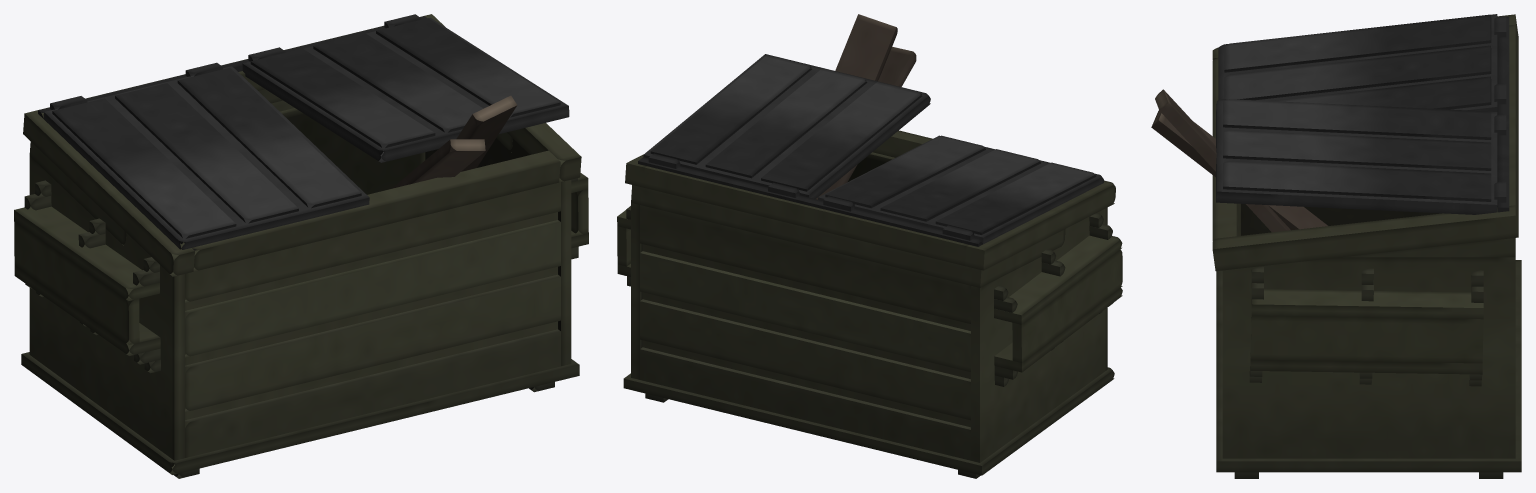
File: dumpster.obj
3 renders of one model, left to right at view 1: azimuth 30°, elevation 25°; view 2: azimuth 150°, elevation 25°; view 3: azimuth 270°, elevation 25°, orthographic. The views are drawn at different scales.
Parts seen in each view (by area): view 1: baseModel4, baseModel6, baseModel2, baseModel8, baseModel3, baseModel19, baseModel10, baseModel22, baseModel24, baseModel23, baseModel71, baseModel21 (+16 smaller); view 2: baseModel7, baseModel5, baseModel2, baseModel1, baseModel9, baseModel11, baseModel18, baseModel71, baseModel17, baseModel26, baseModel28, baseModel25 (+16 smaller); view 3: baseModel0, baseModel37, baseModel13, baseModel25, baseModel26, baseModel28, baseModel22, baseModel23, baseModel71, baseModel27, baseModel35, baseModel24 (+9 smaller).
Part boxes in pixels (x1,y1,x2,y2): baseModel4: (185,220,560,357); baseModel6: (185,274,560,412); baseModel2: (29,156,184,467); baseModel8: (185,329,560,457); baseModel3: (185,182,560,302); baseModel19: (192,150,560,271); baseModel10: (185,212,557,427); baseModel22: (52,98,236,243); baseModel24: (177,67,361,208); baseModel23: (115,83,298,223); baseModel71: (21,352,579,474); baseModel21: (43,66,369,250); baseModel7: (640,299,970,420); baseModel5: (640,251,970,371); baseModel2: (971,207,1107,462); baseModel1: (640,205,970,323); baseModel9: (640,347,970,460); baseModel11: (642,244,970,427); baseModel18: (643,166,968,265); baseModel71: (623,367,1114,475); baseModel17: (640,187,971,285); baseModel26: (705,68,867,178); baseModel28: (761,82,922,191); baseModel25: (650,55,811,164); baseModel0: (1222,257,1515,458); baseModel37: (1250,315,1483,363); baseModel13: (1212,205,1518,271); baseModel25: (1223,161,1491,201); baseModel26: (1223,130,1491,170); baseModel28: (1223,99,1491,139); baseModel22: (1224,14,1491,72); baseModel23: (1224,45,1491,100); baseModel71: (1216,260,1521,472); baseModel27: (1216,99,1497,214); baseModel35: (1251,289,1483,319); baseModel24: (1272,76,1491,109).
Bounding box in the file's own units: 44 × 30.59 × 30.33.
